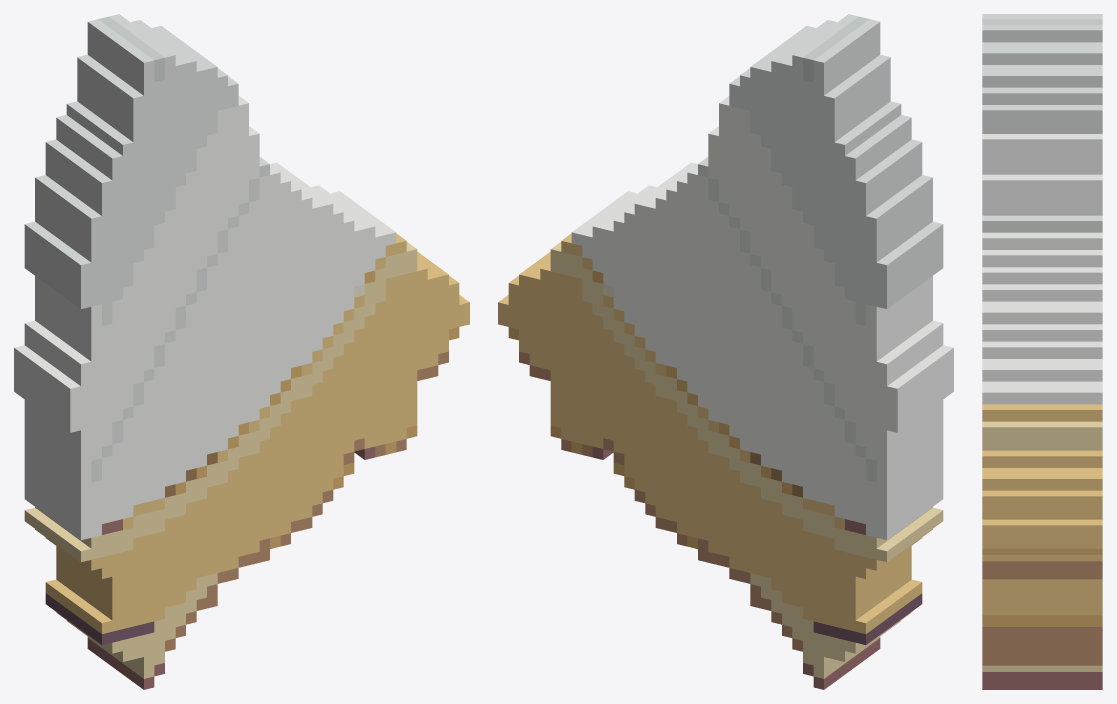
The model's file is mirror shard 2.fbx.
3 renders of one model, left to right at view 1: azimuth 30°, elevation 25°; view 2: azimuth 150°, elevation 25°; view 3: azimuth 270°, elevation 25°, orthographic. The views are drawn at different scales.
Parts seen in each view (by area): view 1: mirror shard 2.png; view 2: mirror shard 2.png; view 3: mirror shard 2.png.
Part boxes in pixels (x1=…): mirror shard 2.png: x1=14, y1=14, x2=469, y2=689; mirror shard 2.png: x1=498, y1=14, x2=953, y2=689; mirror shard 2.png: x1=982, y1=14, x2=1102, y2=689.
Size of the model in its own units: 20.5 by 30.76 by 5.
